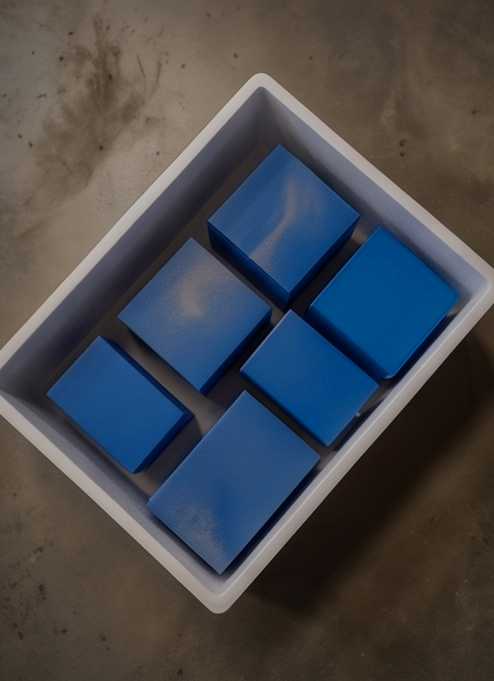blue_box: (144, 391, 323, 579), (209, 148, 360, 314), (306, 230, 463, 386), (118, 239, 273, 394), (238, 309, 384, 453), (48, 334, 195, 474)
container_box: (0, 73, 494, 623)
